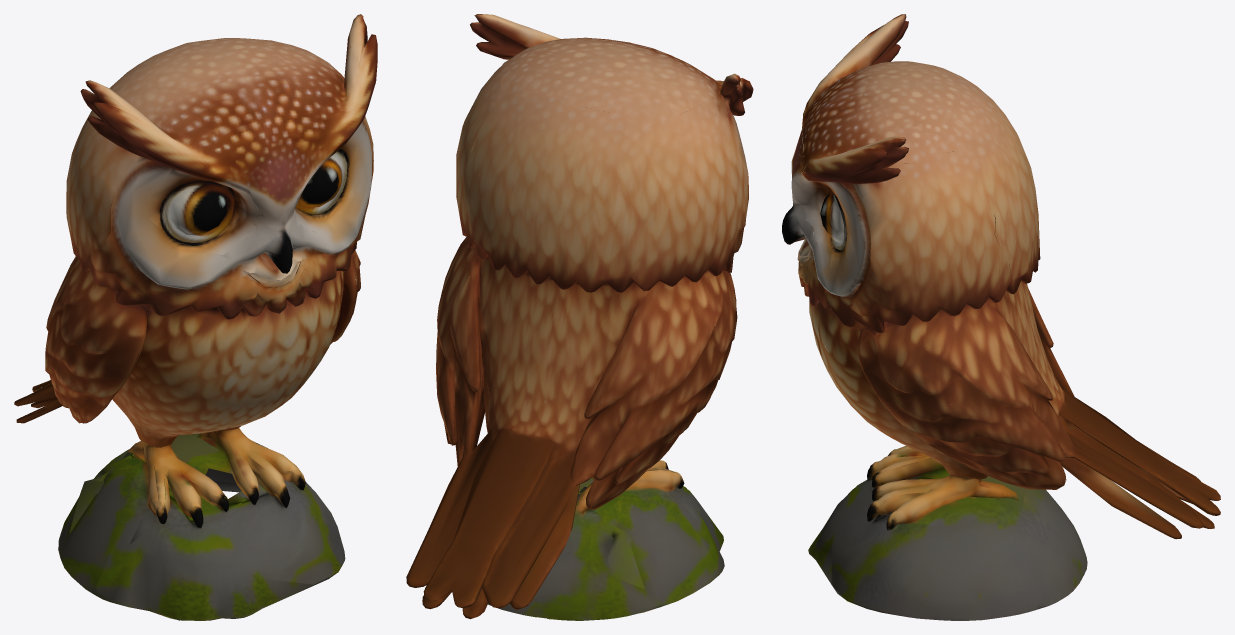
File: Duc.glb
The picture shows the model from 3 angles, left to right: view 1: azimuth 30°, elevation 25°; view 2: azimuth 150°, elevation 25°; view 3: azimuth 270°, elevation 25°; orthographic projection. The views are drawn at different scales.
Visible parts, largest first — view 1: material; view 2: material; view 3: material.
Part boxes in pixels (x1=…): material: x1=14, y1=14, x2=377, y2=620; material: x1=406, y1=14, x2=753, y2=620; material: x1=782, y1=14, x2=1220, y2=620.
Bounding box in the file's own units: 1.08 × 1.9 × 1.54.
1 material, 1 textured.
